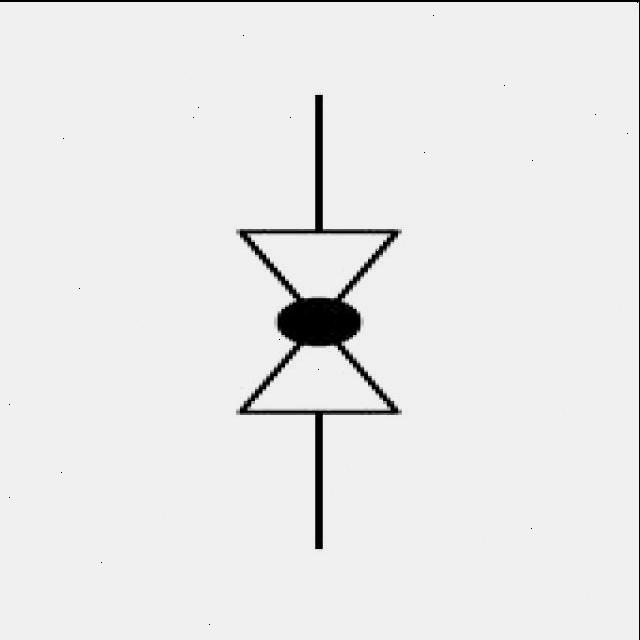Globe Valve: (186, 190, 472, 454)
